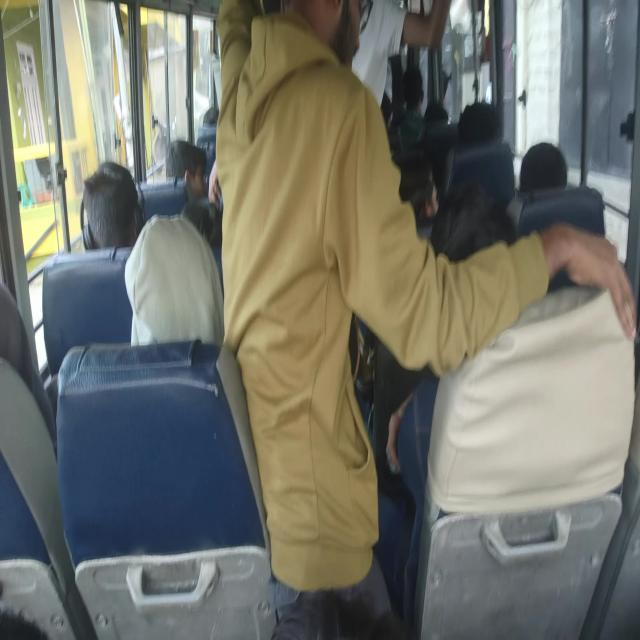person: (234, 6, 370, 407), (418, 187, 546, 332), (121, 229, 223, 352), (351, 0, 402, 116), (82, 172, 143, 264), (511, 151, 577, 213), (0, 278, 36, 391), (394, 151, 440, 221), (462, 99, 509, 149), (163, 134, 196, 198), (203, 104, 226, 149), (398, 64, 421, 103), (431, 100, 451, 132)
